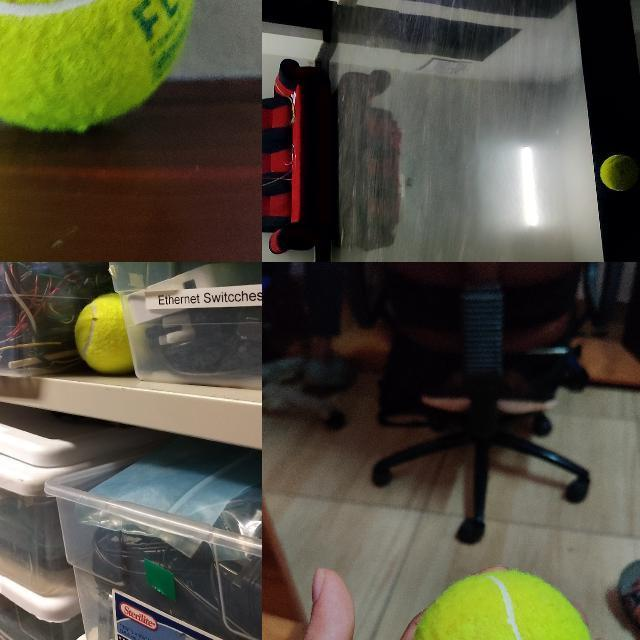tennis-ball: (0, 0, 196, 133), (412, 570, 593, 639), (73, 293, 117, 375), (599, 153, 639, 191)
